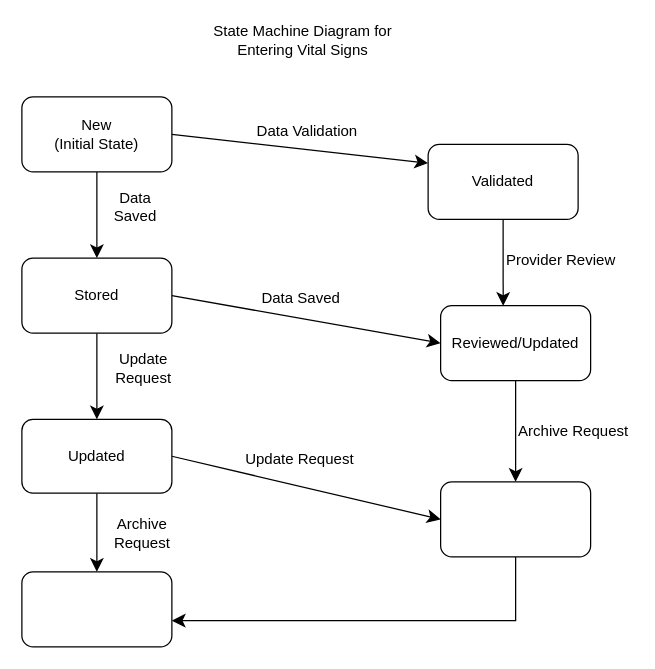
The diagram is 655 pixels wide and 669 high, and some of its shapes have lost their labels. The centre of each missing label's shape, as x and y in pixels:
"Archived" belongs at point (515, 519).
"Archived (Final State)" belongs at point (96, 609).
